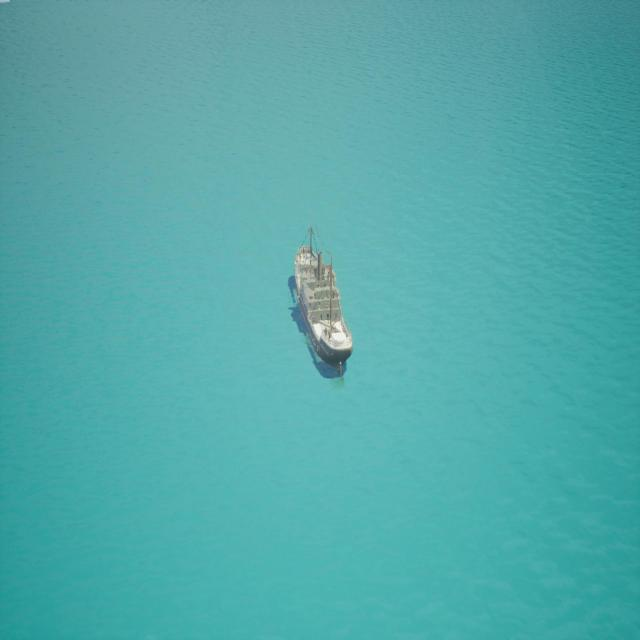fishing ship: (291, 227, 353, 381)
